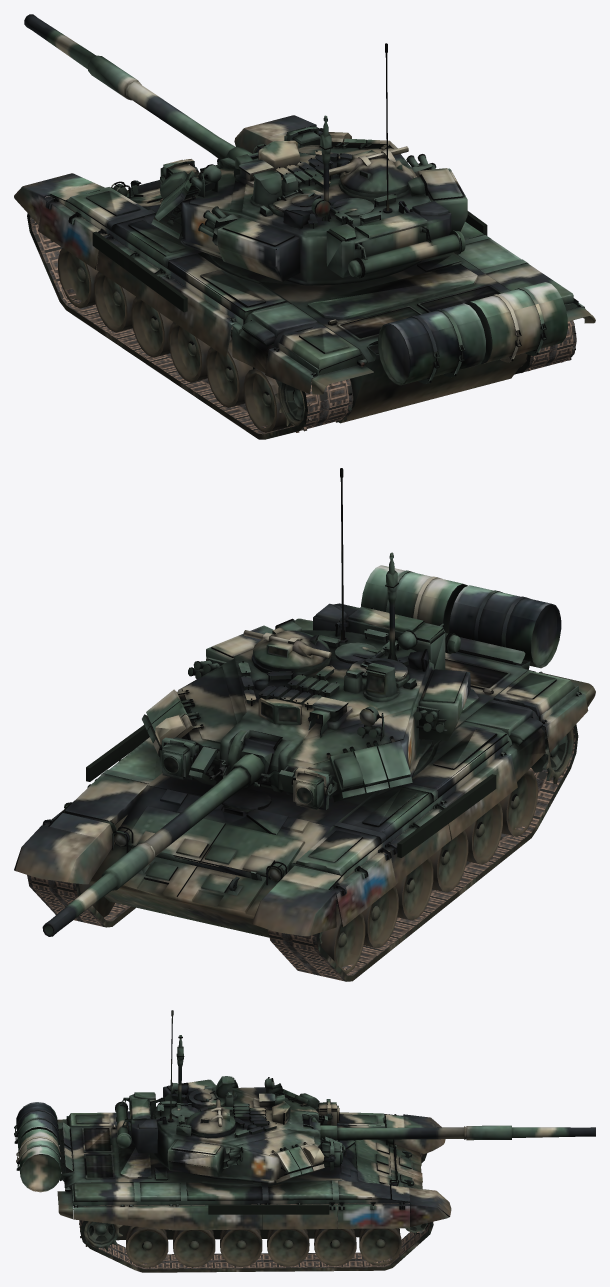
3 renders of one model, top to bottom at view 1: azimuth 30°, elevation 25°; view 2: azimuth 150°, elevation 25°; view 3: azimuth 270°, elevation 25°, orthographic. The views are drawn at different scales.
Parts seen in each view (by area): view 1: hull, turret, barrel; view 2: hull, turret, barrel; view 3: hull, turret, barrel.
Part boxes in pixels (left/top/right/bottom): hull: left=14, top=115, right=595, bottom=439; turret: left=129, top=43, right=510, bottom=311; barrel: left=24, top=14, right=252, bottom=167; hull: left=14, top=565, right=595, bottom=981; turret: left=147, top=468, right=505, bottom=826; barrel: left=42, top=751, right=278, bottom=936; hull: left=14, top=1092, right=451, bottom=1272; turret: left=76, top=1010, right=343, bottom=1195; barrel: left=320, top=1124, right=595, bottom=1140.
Size of the model in its own units: 3.85 by 4.11 by 9.63.
2 materials, 2 textured.
